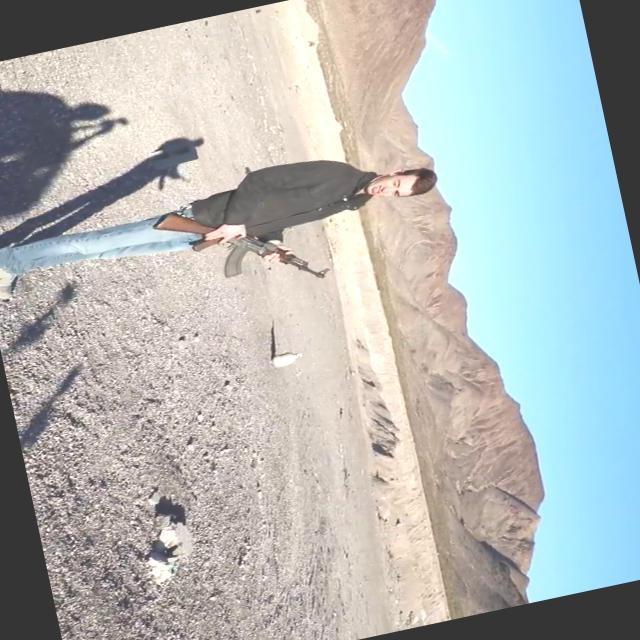long weapon: (145, 174, 340, 328)
